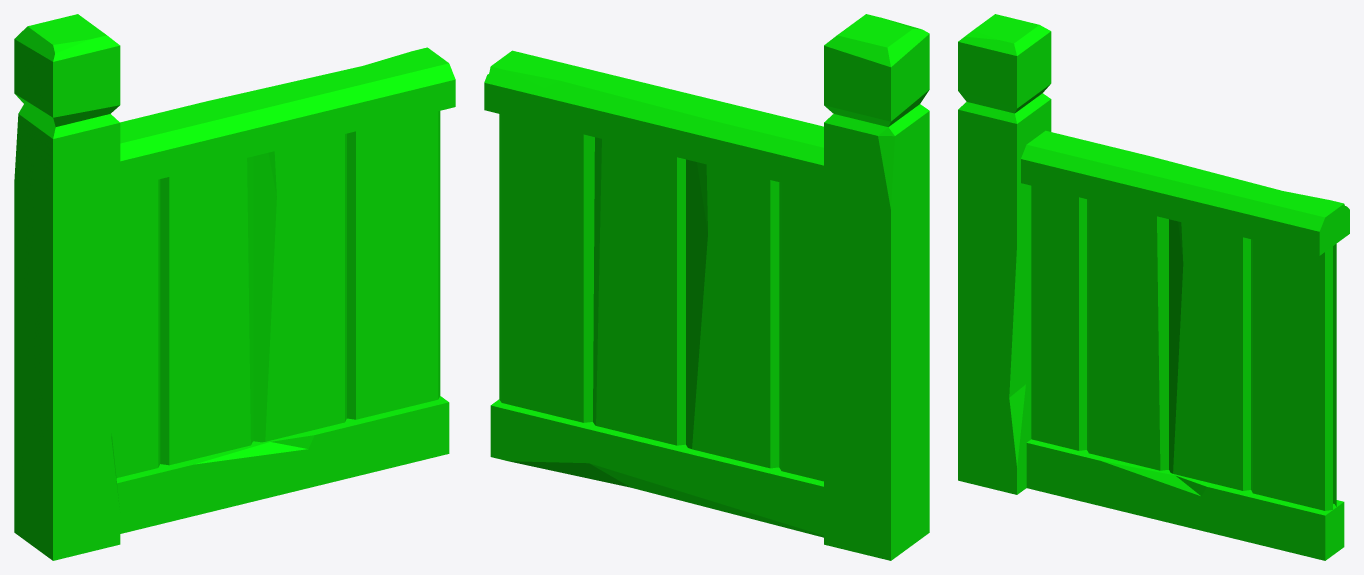
Rendered from SM_Railing_Wood_Post_A_1m.fbx.
3 renders of one model, left to right at view 1: azimuth 30°, elevation 25°; view 2: azimuth 150°, elevation 25°; view 3: azimuth 330°, elevation 25°, orthographic. The views are drawn at different scales.
Parts seen in each view (by area): view 1: railing-wood-post-a-1m; view 2: railing-wood-post-a-1m; view 3: railing-wood-post-a-1m.
Boxes of the visible parts, x1,y1,x2,y2 form: railing-wood-post-a-1m: (14,14,455,560); railing-wood-post-a-1m: (484,14,929,560); railing-wood-post-a-1m: (958,14,1349,560).
Bounding box in the file's own units: 1.09 × 1.3 × 0.18.
